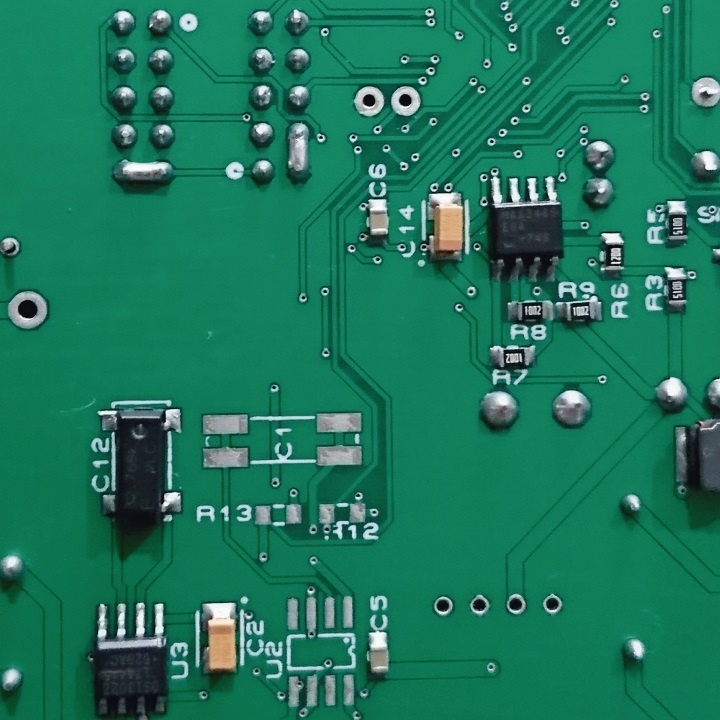F: (4, 288, 53, 335), (687, 72, 720, 115), (350, 83, 387, 119), (387, 83, 424, 119), (1, 232, 28, 263), (427, 591, 456, 619), (467, 588, 492, 620), (501, 591, 528, 619), (539, 592, 566, 619)
P: (107, 155, 179, 192), (281, 117, 314, 188)
